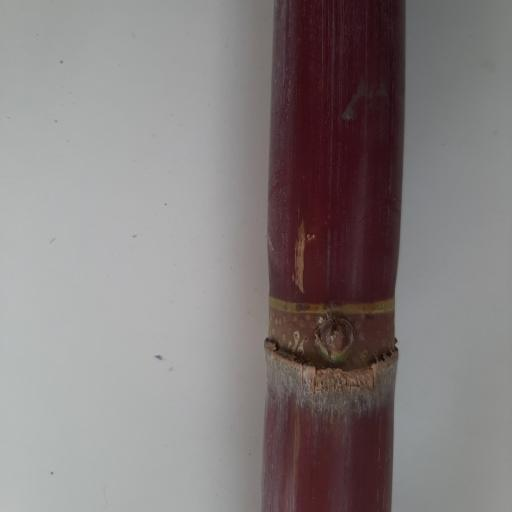Bud: (314, 314, 355, 362)
